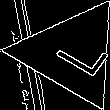L_NW: (38, 26, 104, 80)
